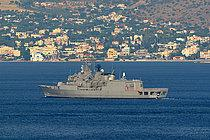MIL_Ship: (38, 58, 170, 99)
